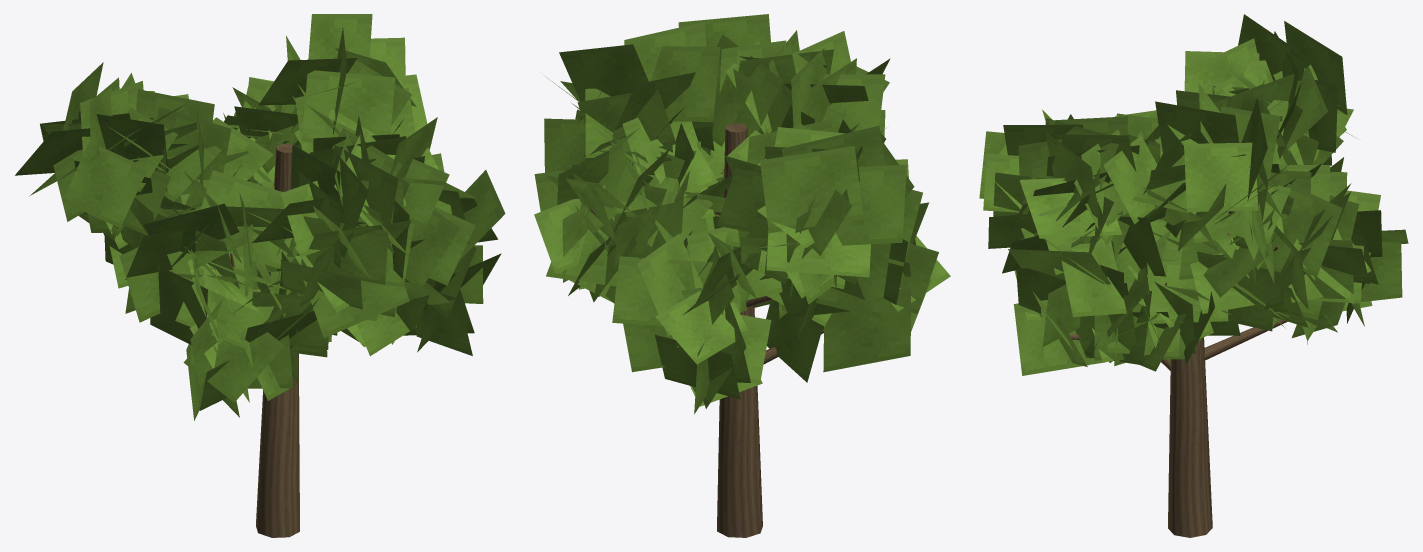
3 renders of one model, left to right at view 1: azimuth 30°, elevation 25°; view 2: azimuth 150°, elevation 25°; view 3: azimuth 270°, elevation 25°, orthographic. The views are drawn at different scales.
Visible parts, largest first — view 1: oak-leaf, oak-bark; view 2: oak-leaf, oak-bark; view 3: oak-leaf, oak-bark.
Boxes of the visible parts, x1,y1,x2,y2 form: oak-leaf: (15, 14, 505, 420); oak-bark: (230, 143, 347, 537); oak-leaf: (534, 14, 950, 414); oak-bark: (590, 123, 823, 537); oak-leaf: (979, 14, 1408, 375); oak-bark: (1069, 211, 1287, 537).
Bounding box in the file's own units: 7.85 × 9.57 × 8.02.
2 materials, 2 textured.
